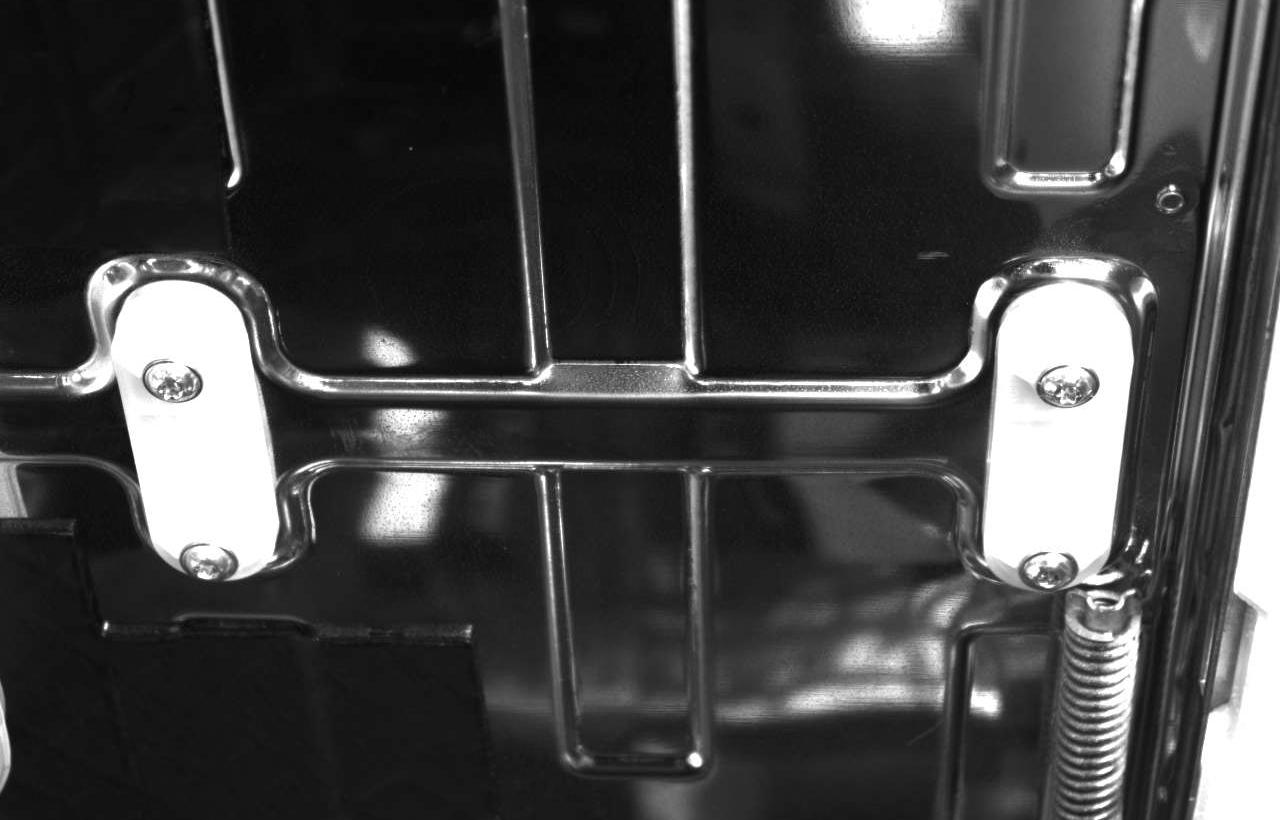vida-ok: (134, 334, 221, 412), (1036, 347, 1124, 420), (177, 526, 254, 590), (1018, 540, 1094, 598)
